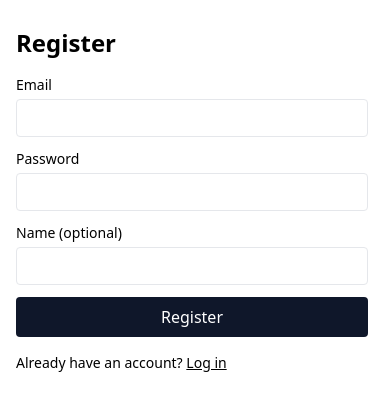
it: RegisterPage › shows an error message when registration fails
Type "dup@example.com" into the field labelled "Email" at (192, 118), box [16,99,368,137]
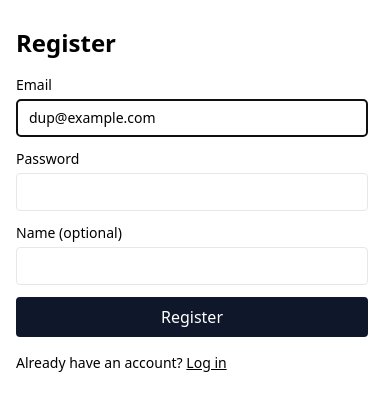
Type "password123" into the password field labelled "Password" at (192, 192), box [16,173,368,211]
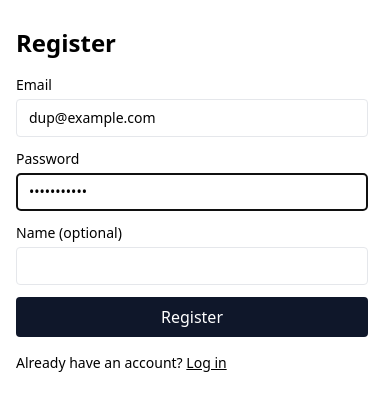
Click the button "Register" at (192, 317), box [16,297,368,337]
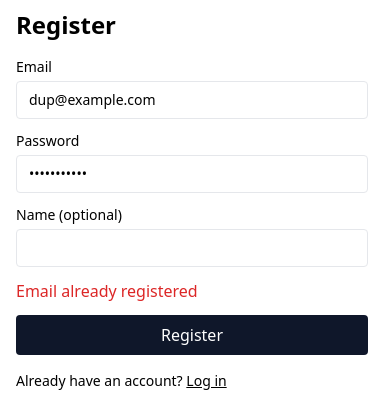
Now the text "Email already registered" is shown, box [16,280,198,302]
